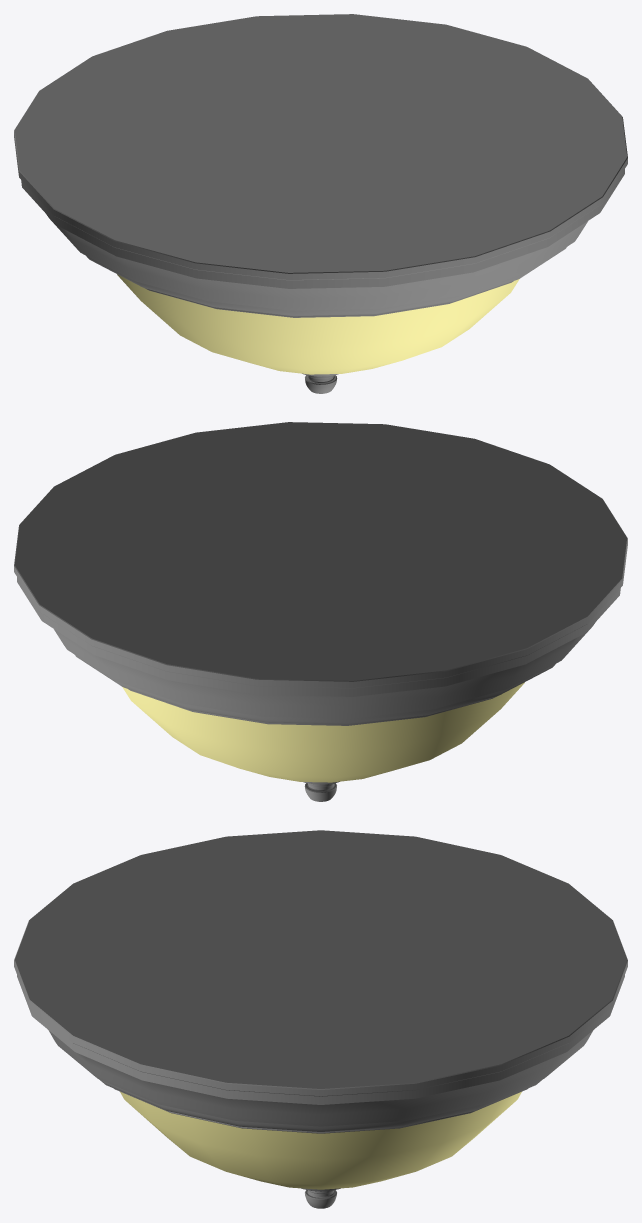
Rendered from ligha.FBX.
3 renders of one model, top to bottom at view 1: azimuth 30°, elevation 25°; view 2: azimuth 150°, elevation 25°; view 3: azimuth 270°, elevation 25°, orthographic.
Visible parts, largest first — view 1: Bronze Light; view 2: Bronze Light; view 3: Bronze Light.
Boxes of the visible parts, box(x1,y1,x2,y2) form: Bronze Light: box(14, 14, 627, 393); Bronze Light: box(14, 422, 627, 801); Bronze Light: box(14, 830, 627, 1208).
Size of the model in its own units: 80.52 by 35.43 by 80.52.
